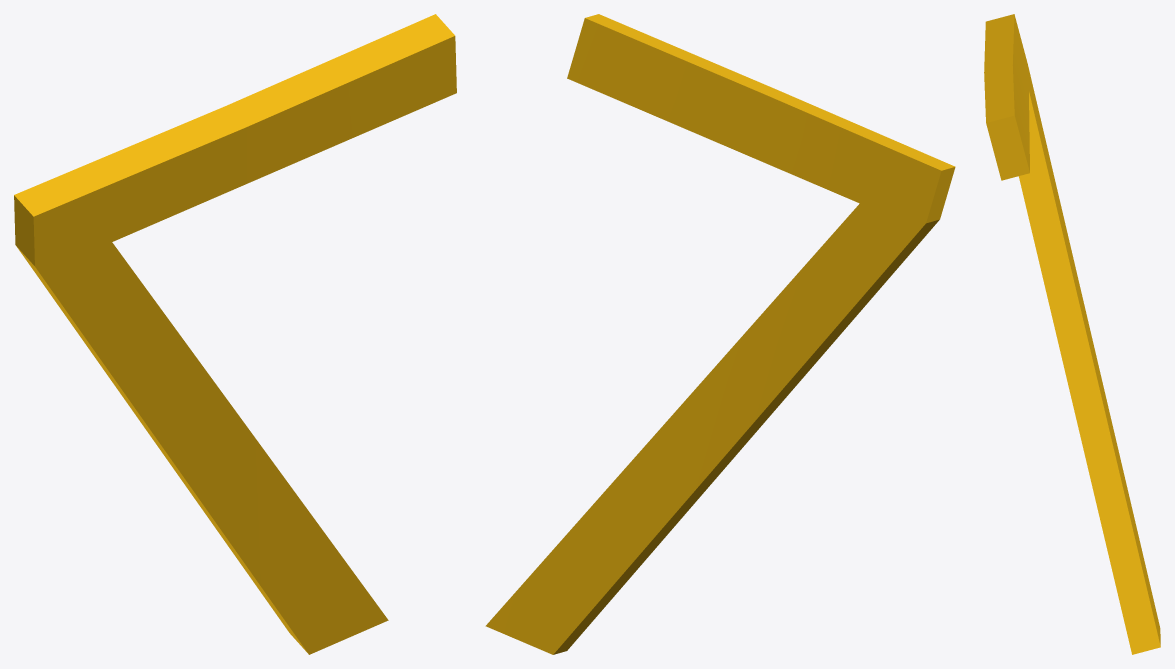
File: Number_7.gltf
3 views of the same model, side by side, from view 1: azimuth 30°, elevation 25°; view 2: azimuth 150°, elevation 25°; view 3: azimuth 270°, elevation 25° (orthographic). The views are drawn at different scales.
Parts seen in each view (by area): view 1: Sub_5_Cell_3_1_Number_7; view 2: Sub_5_Cell_3_1_Number_7; view 3: Sub_5_Cell_3_1_Number_7.
Boxes of the visible parts, x1,y1,x2,y2 form: Sub_5_Cell_3_1_Number_7: [14, 14, 456, 654]; Sub_5_Cell_3_1_Number_7: [485, 14, 955, 654]; Sub_5_Cell_3_1_Number_7: [984, 14, 1160, 654].
Size of the model in its own units: 0.0176 by 0.0255 by 0.00755.
